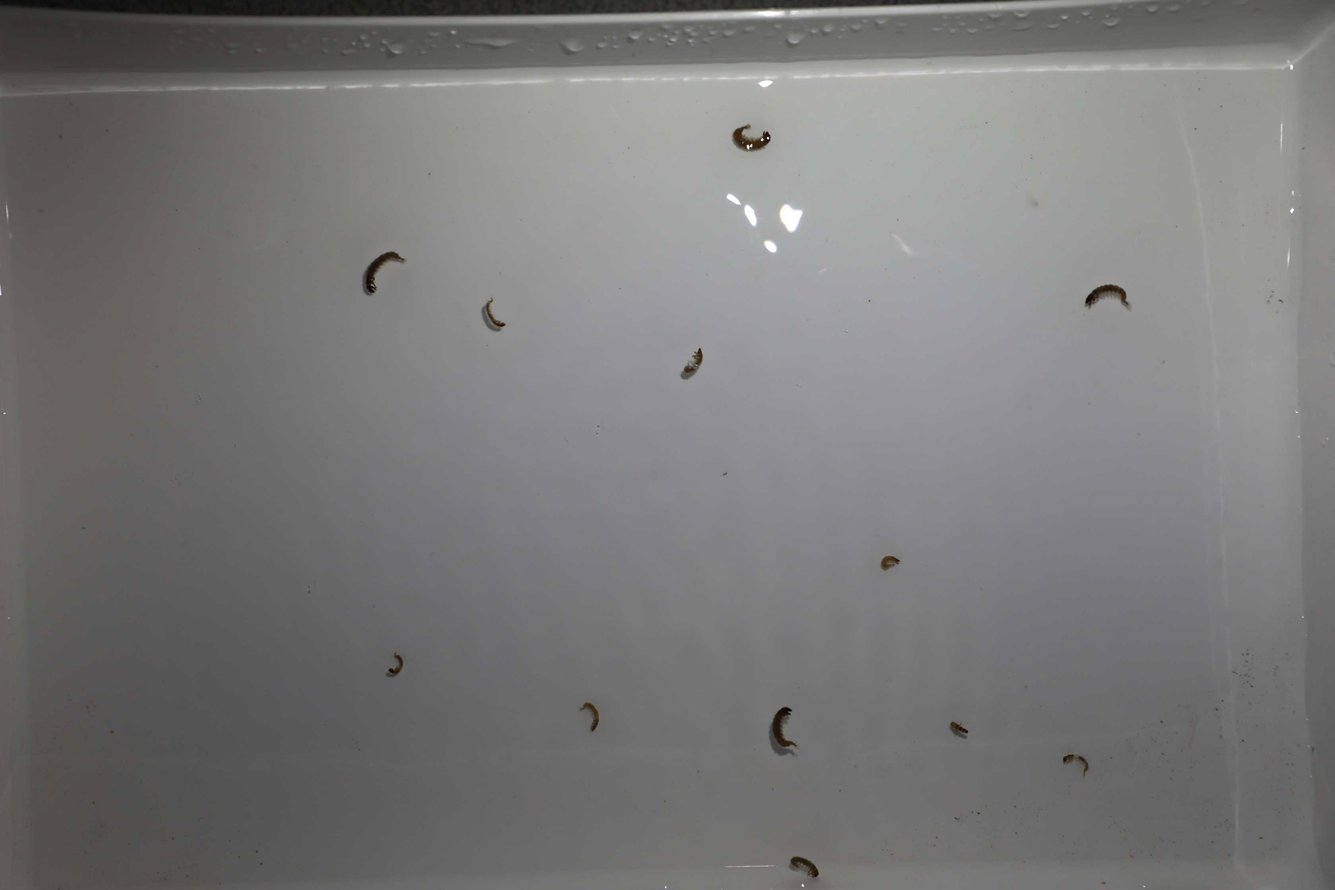Cadisfly: (357, 244, 403, 299), (1080, 274, 1134, 317), (768, 700, 798, 758), (730, 117, 771, 157), (674, 343, 710, 383), (786, 847, 824, 880), (479, 297, 512, 330), (578, 703, 606, 738), (380, 654, 411, 682), (1058, 750, 1091, 776), (877, 547, 905, 573), (944, 717, 973, 741)
